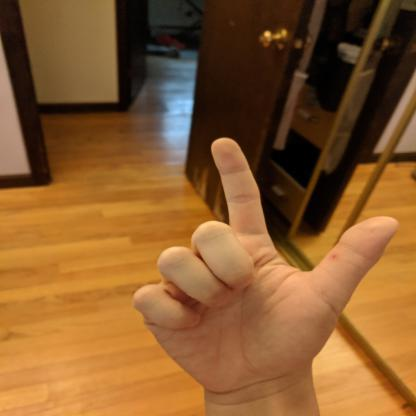L: (123, 133, 406, 387)
